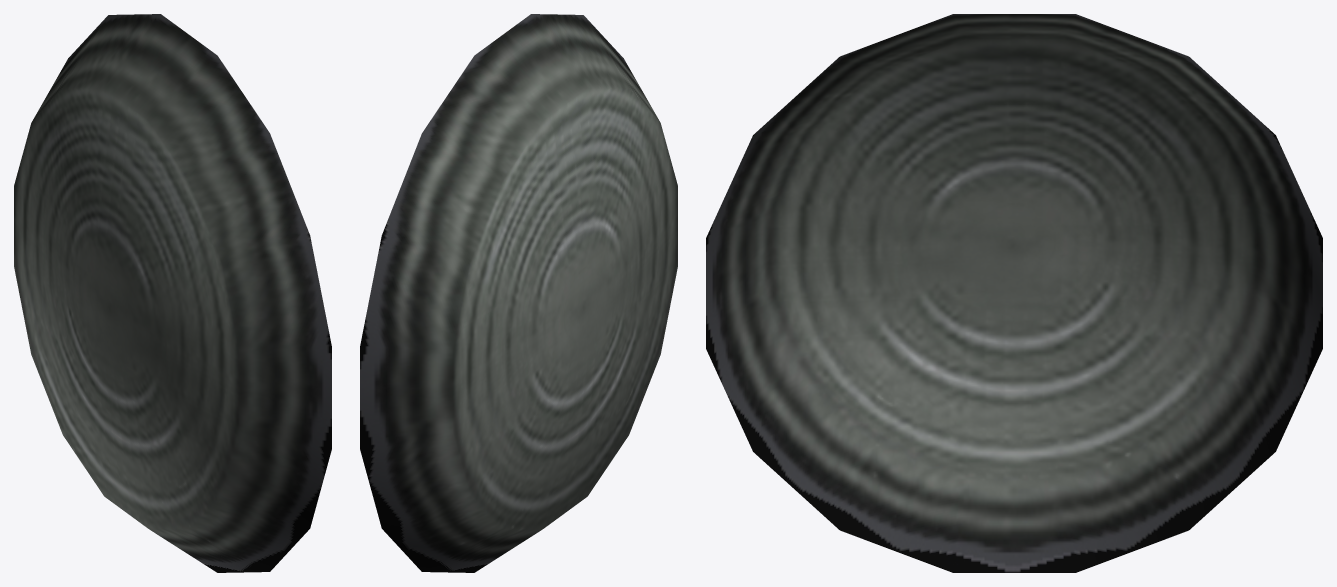
Rendered from svet_lens.fbx.
The picture shows the model from 3 angles, left to right: view 1: azimuth 30°, elevation 25°; view 2: azimuth 150°, elevation 25°; view 3: azimuth 270°, elevation 25°; orthographic projection. The views are drawn at different scales.
Parts seen in each view (by area): view 1: lens; view 2: lens; view 3: lens.
Boxes of the visible parts, x1=… form: lens: x1=14, y1=14, x2=331, y2=572; lens: x1=360, y1=14, x2=677, y2=572; lens: x1=706, y1=14, x2=1322, y2=572.
Size of the model in its own units: 0.0236 by 0.1454 by 0.1454.
